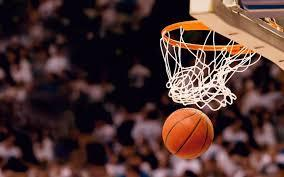basketball: (162, 108, 214, 158)
